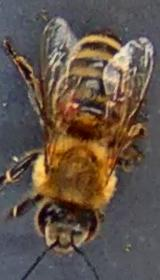varroa_mite: (54, 87, 88, 133)
